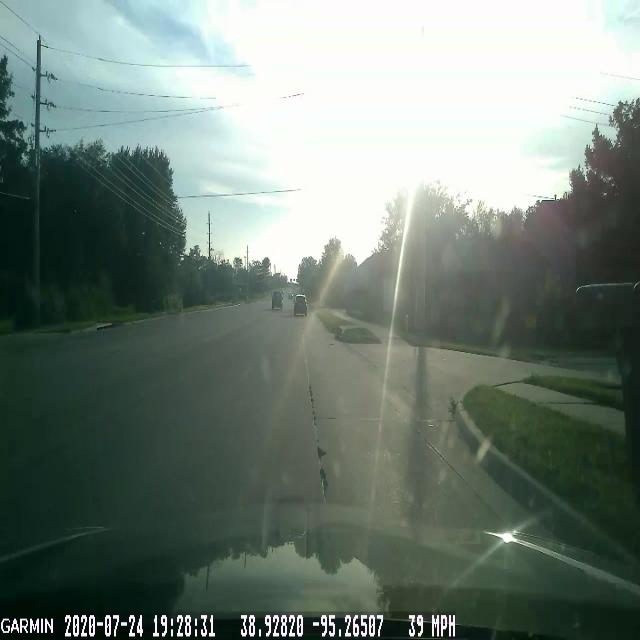Pothole: (311, 466, 339, 498), (309, 438, 337, 462)
